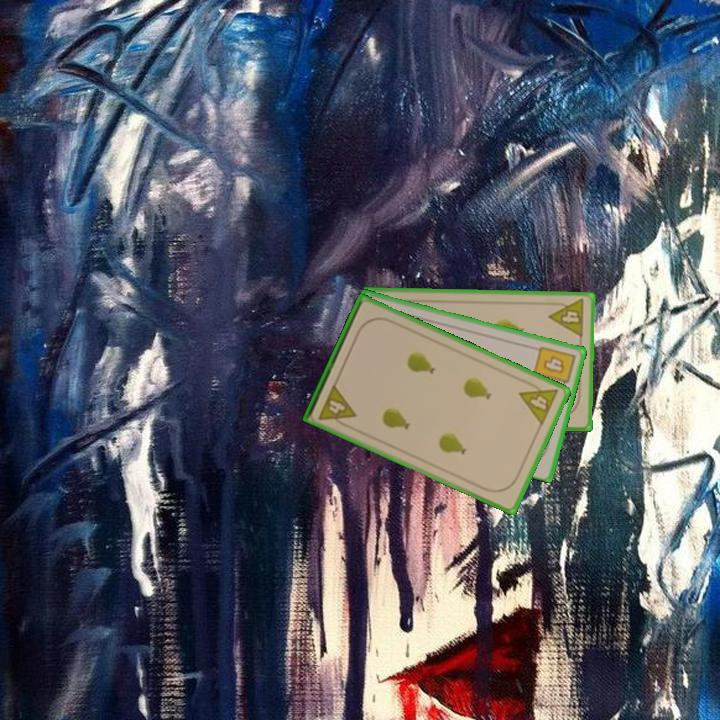4b: (530, 342, 578, 392)
4p: (516, 376, 561, 428), (315, 380, 359, 431), (546, 296, 587, 340)
